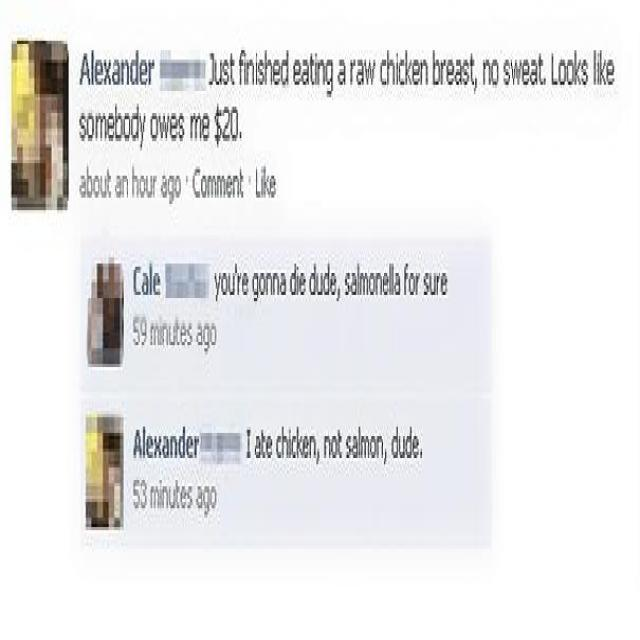1: (133, 476, 140, 512), (133, 317, 140, 345)
5: (140, 315, 148, 347)
A: (79, 50, 91, 88), (337, 54, 347, 86), (300, 58, 310, 89), (454, 58, 464, 89), (529, 58, 539, 89), (133, 426, 142, 458), (356, 56, 364, 88), (112, 56, 121, 84), (161, 433, 170, 461), (160, 172, 168, 200), (254, 433, 262, 461), (78, 172, 86, 198), (142, 270, 150, 295), (394, 270, 402, 295), (280, 272, 288, 296), (352, 431, 358, 463), (196, 485, 203, 510), (350, 272, 357, 296), (196, 322, 203, 346), (115, 176, 121, 200)
B: (432, 48, 440, 86), (114, 104, 122, 142), (86, 162, 92, 196)
C: (133, 263, 141, 295), (192, 166, 200, 198), (379, 58, 387, 86), (398, 58, 406, 83), (274, 436, 282, 458), (291, 434, 297, 460)
D: (130, 46, 139, 84), (131, 102, 140, 140), (281, 47, 289, 88), (308, 260, 316, 295), (178, 424, 186, 458), (324, 262, 331, 296), (290, 260, 296, 295), (406, 425, 412, 460), (392, 422, 398, 456)
E: (292, 58, 302, 86), (152, 268, 162, 296), (272, 56, 281, 84), (606, 58, 615, 86), (106, 112, 115, 140), (169, 113, 178, 141), (268, 174, 278, 199), (202, 110, 210, 141), (185, 434, 194, 460), (95, 58, 104, 83), (140, 58, 148, 86), (412, 58, 420, 86), (446, 56, 454, 84), (522, 56, 530, 84), (265, 433, 273, 461), (302, 433, 310, 461), (180, 485, 188, 513), (412, 434, 420, 460), (329, 270, 336, 298), (242, 272, 250, 296), (299, 273, 307, 295), (180, 323, 188, 345), (145, 436, 153, 458), (226, 174, 233, 199), (441, 273, 448, 298), (383, 270, 388, 295)
F: (238, 47, 244, 85), (404, 262, 408, 296)
G: (325, 58, 333, 96), (203, 484, 210, 520), (203, 322, 210, 356), (252, 271, 259, 303), (168, 174, 174, 206)
H: (264, 48, 273, 84), (388, 47, 396, 85), (132, 163, 139, 198), (282, 425, 288, 457)
I: (244, 50, 247, 85), (255, 52, 258, 84), (247, 426, 250, 458), (261, 164, 263, 200), (396, 52, 398, 86), (315, 52, 317, 84), (597, 53, 599, 85), (297, 263, 299, 295), (160, 314, 162, 346), (290, 426, 292, 458), (160, 476, 162, 508)
J: (210, 50, 213, 88)
K: (574, 48, 581, 86), (406, 47, 412, 85), (600, 48, 606, 86), (296, 424, 302, 458), (264, 164, 270, 197)
L: (552, 52, 558, 84), (256, 164, 260, 200), (389, 260, 392, 295), (92, 48, 94, 84), (594, 48, 596, 84), (358, 425, 360, 460), (392, 260, 394, 295), (150, 262, 152, 294), (144, 425, 145, 457), (358, 260, 358, 295)
M: (190, 112, 202, 140), (95, 113, 106, 141), (206, 172, 216, 198), (360, 436, 370, 458), (217, 174, 226, 196), (150, 323, 159, 345), (150, 484, 159, 506), (360, 272, 368, 296)
N: (120, 58, 130, 86), (316, 60, 326, 84), (246, 58, 254, 86), (420, 58, 428, 86), (482, 56, 490, 84), (170, 434, 178, 460), (272, 272, 280, 296), (309, 434, 316, 460), (376, 434, 384, 456), (162, 323, 169, 348), (324, 433, 331, 458), (265, 272, 272, 296), (375, 272, 382, 296), (233, 172, 239, 198), (122, 176, 128, 200), (162, 486, 168, 508)
O: (86, 111, 95, 143), (490, 58, 500, 86), (558, 58, 566, 86), (566, 58, 574, 86), (122, 112, 130, 140), (150, 112, 158, 140), (220, 272, 228, 296), (258, 272, 266, 296), (368, 272, 376, 296), (408, 272, 416, 296), (138, 175, 146, 198), (92, 174, 100, 196), (210, 485, 217, 510), (210, 322, 217, 346), (174, 174, 181, 196), (200, 174, 207, 196), (331, 436, 338, 458), (369, 436, 376, 458)
R: (148, 58, 156, 83), (349, 56, 356, 84), (439, 56, 446, 84), (414, 272, 420, 294), (436, 273, 442, 295), (237, 273, 242, 295), (152, 172, 156, 198), (196, 433, 200, 458)
S: (462, 56, 470, 88), (78, 111, 86, 143), (502, 58, 510, 86), (581, 58, 589, 86), (345, 433, 353, 461), (223, 58, 230, 86), (178, 111, 184, 143), (423, 270, 430, 295), (258, 58, 264, 86), (344, 272, 351, 296), (187, 485, 193, 510), (187, 322, 193, 346)
T: (308, 52, 314, 86), (174, 315, 180, 347), (538, 50, 542, 85), (230, 52, 234, 86), (470, 52, 474, 86), (338, 428, 342, 460), (107, 168, 111, 196), (175, 482, 179, 509), (240, 168, 243, 199), (262, 428, 264, 460)
U: (214, 56, 223, 88), (398, 434, 406, 460), (315, 270, 323, 295), (168, 324, 176, 346), (146, 175, 153, 198), (429, 272, 436, 294), (169, 486, 176, 508), (228, 272, 234, 296), (100, 174, 106, 196)
W: (364, 58, 376, 86), (511, 56, 522, 84), (158, 113, 169, 141)
X: (153, 433, 162, 461), (104, 58, 112, 83)
Y: (139, 113, 146, 151), (214, 271, 221, 303)
